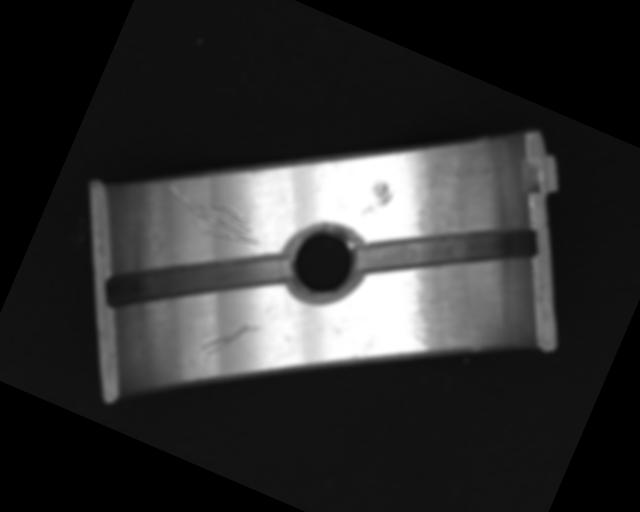bruise: (358, 176, 397, 225)
gap: (100, 197, 294, 364), (355, 171, 542, 332)
hole: (272, 212, 375, 313)
nick: (157, 181, 268, 255), (198, 306, 259, 369)
